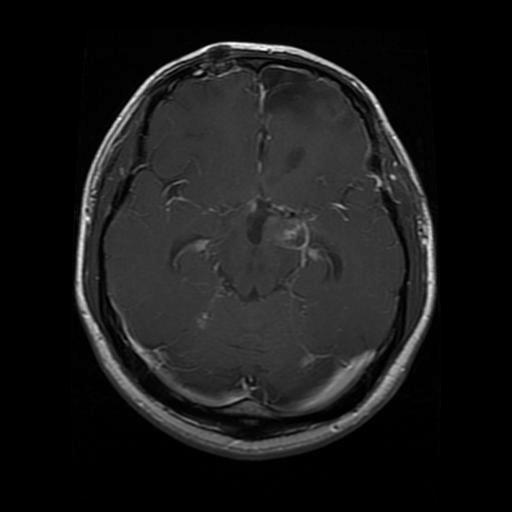Tumour-Glioma: (256, 205, 345, 271)
